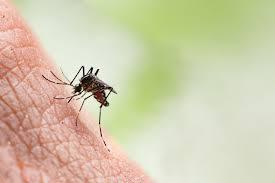insect: (40, 60, 119, 154)
